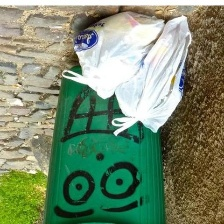plastic_bag: (105, 12, 197, 141), (56, 10, 172, 100)
